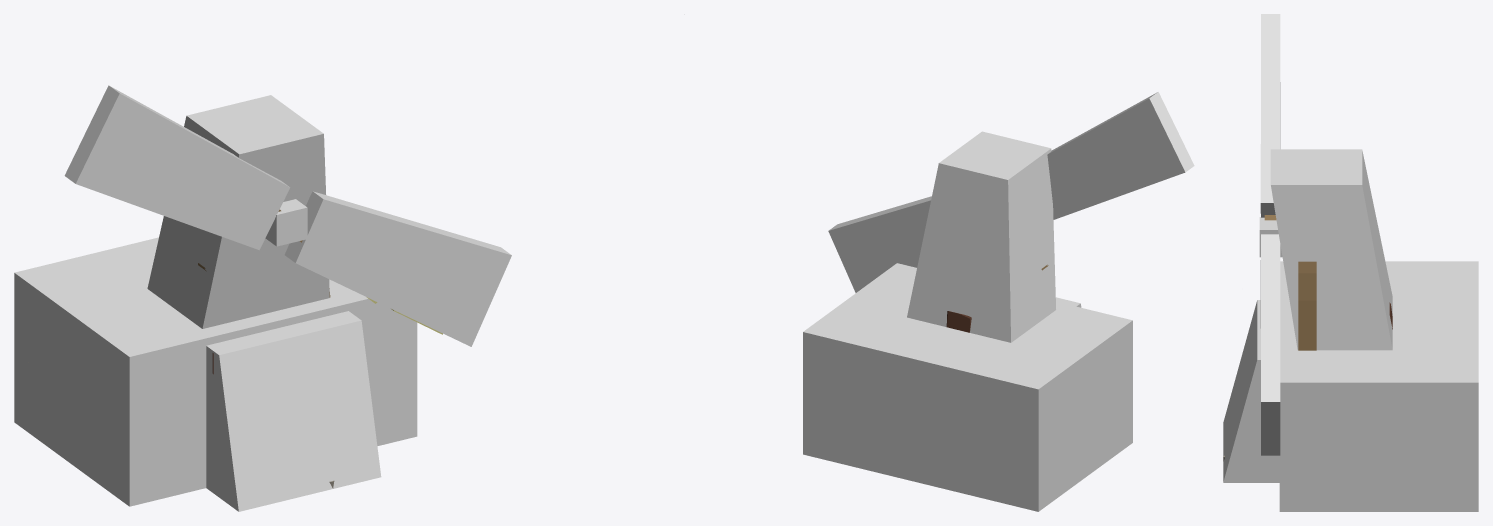
File: mill.glb
The picture shows the model from 3 angles, left to right: view 1: azimuth 30°, elevation 25°; view 2: azimuth 150°, elevation 25°; view 3: azimuth 270°, elevation 25°; orthographic projection. The views are drawn at different scales.
Parts seen in each view (by area): view 1: Cube.040, Cube.041, Cube.042, Cube.044, Cube.045, Cube.043; view 2: Cube.040, Cube.042, Cube.044, Cube.045; view 3: Cube.040, Cube.042, Cube.041, Cube.045, Cube.044, Object_3.007, Cube.043.
Part boxes in pixels (<box>): Cube.040: <box>14,237,417,506</box>; Cube.041: <box>206,311,381,511</box>; Cube.042: <box>147,95,329,328</box>; Cube.044: <box>64,85,290,250</box>; Cube.045: <box>284,191,511,346</box>; Cube.043: <box>265,199,307,246</box>; Cube.040: <box>803,263,1132,511</box>; Cube.042: <box>907,131,1055,342</box>; Cube.044: <box>1047,92,1194,219</box>; Cube.045: <box>828,196,931,292</box>; Cube.040: <box>1279,261,1478,511</box>; Cube.042: <box>1270,149,1392,350</box>; Cube.041: <box>1223,300,1279,482</box>; Cube.045: <box>1260,234,1280,455</box>; Cube.044: <box>1260,14,1280,217</box>; Object_3.007: <box>1298,261,1316,350</box>; Cube.043: <box>1259,217,1282,257</box>.
Size of the model in its own units: 6.47 by 4.4 by 2.77.
